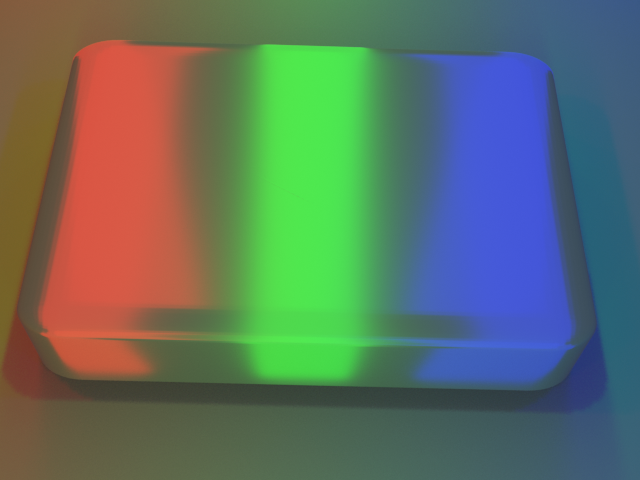scratch: (148, 113, 437, 276)
